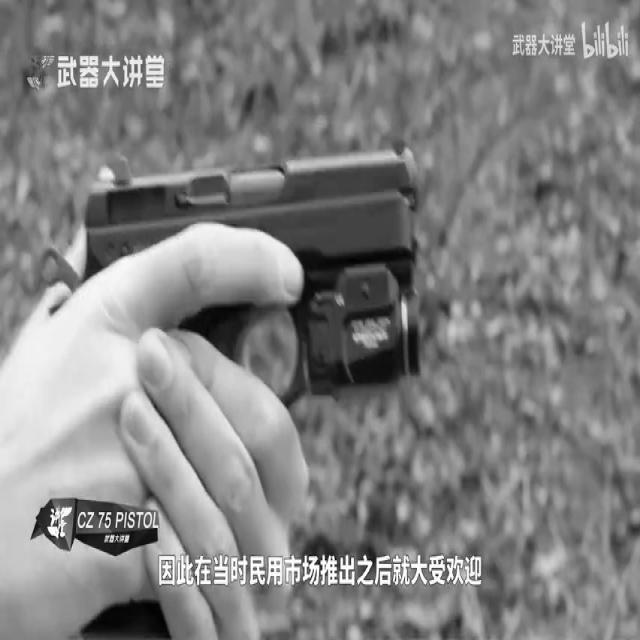Hand-Gun: (59, 93, 443, 595)
